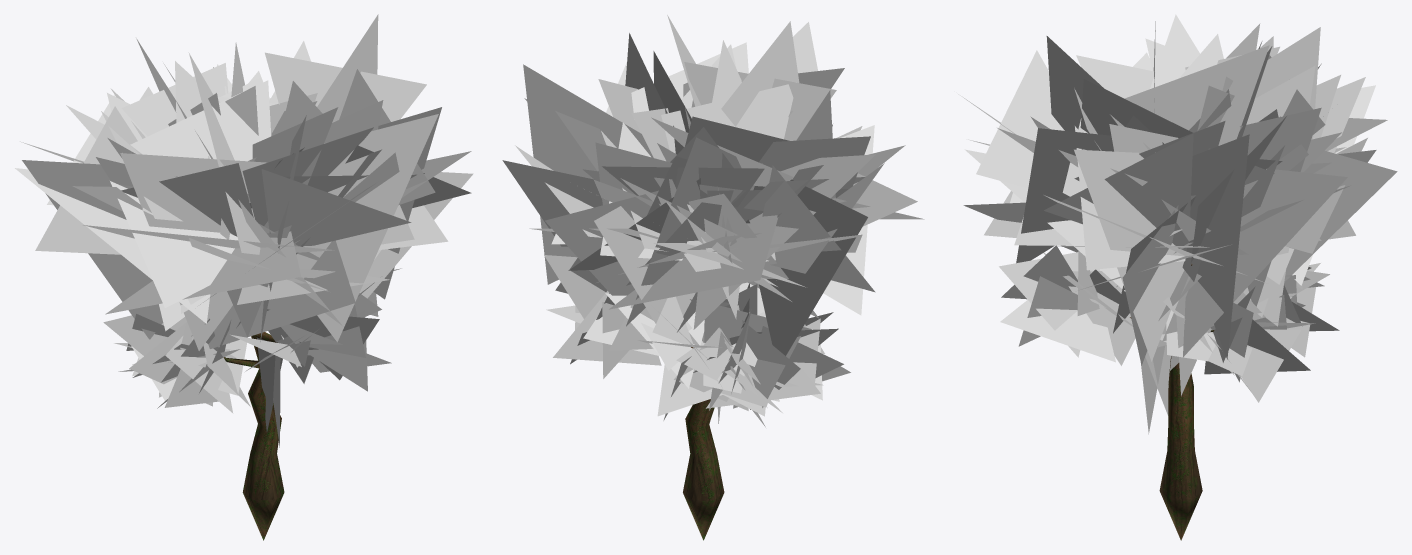
3 renders of one model, left to right at view 1: azimuth 30°, elevation 25°; view 2: azimuth 150°, elevation 25°; view 3: azimuth 270°, elevation 25°, orthographic. The views are drawn at different scales.
Parts seen in each view (by area): view 1: tree_LOD0; view 2: tree_LOD0; view 3: tree_LOD0.
Part boxes in pixels (x1,y1,x2,y2): tree_LOD0: (15, 14, 473, 540); tree_LOD0: (502, 15, 924, 540); tree_LOD0: (958, 14, 1397, 540).
Size of the model in its own units: 6470 by 7678 by 6254.
